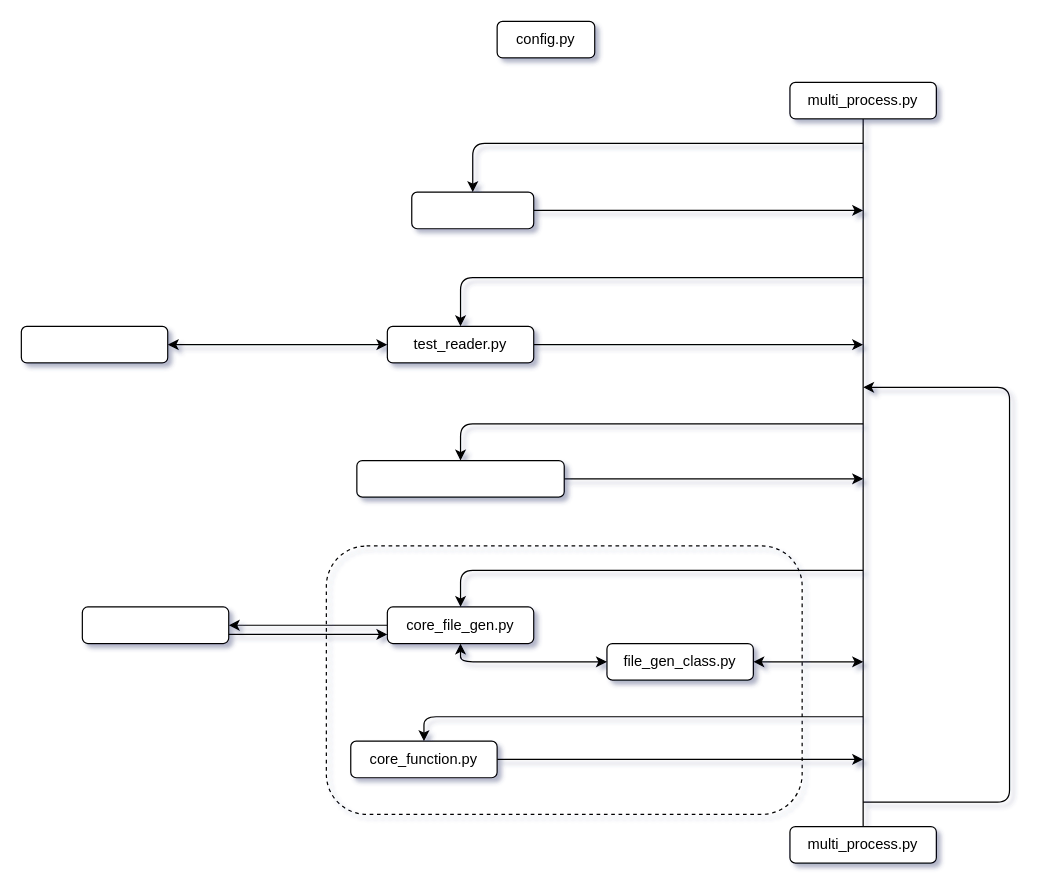
This 1048x892 diagram has some shape labels left out. Each missing label, with the centre of its shape:
"config_arg.py" belongs at (x=472, y=210).
"generator.py" belongs at (x=155, y=625).
"process_allocation_algo.py" belongs at (x=460, y=478).
"test_file.txt" belongs at (x=94, y=344).
